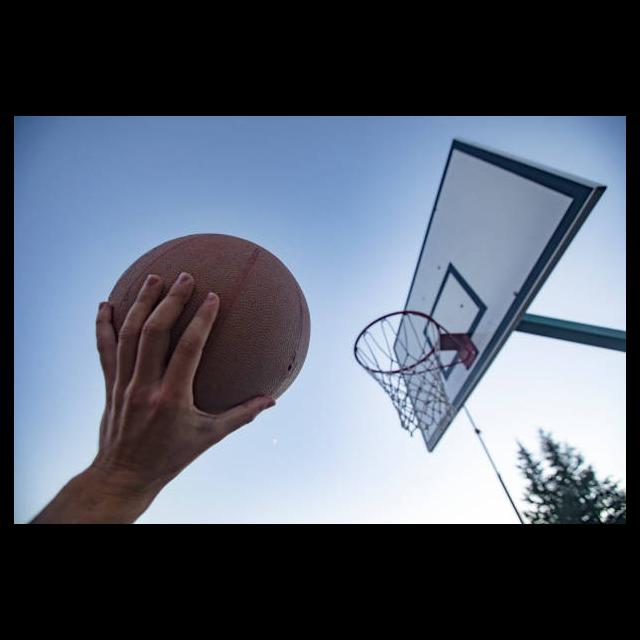basketball: (97, 231, 311, 420)
hoop: (355, 311, 455, 434)
